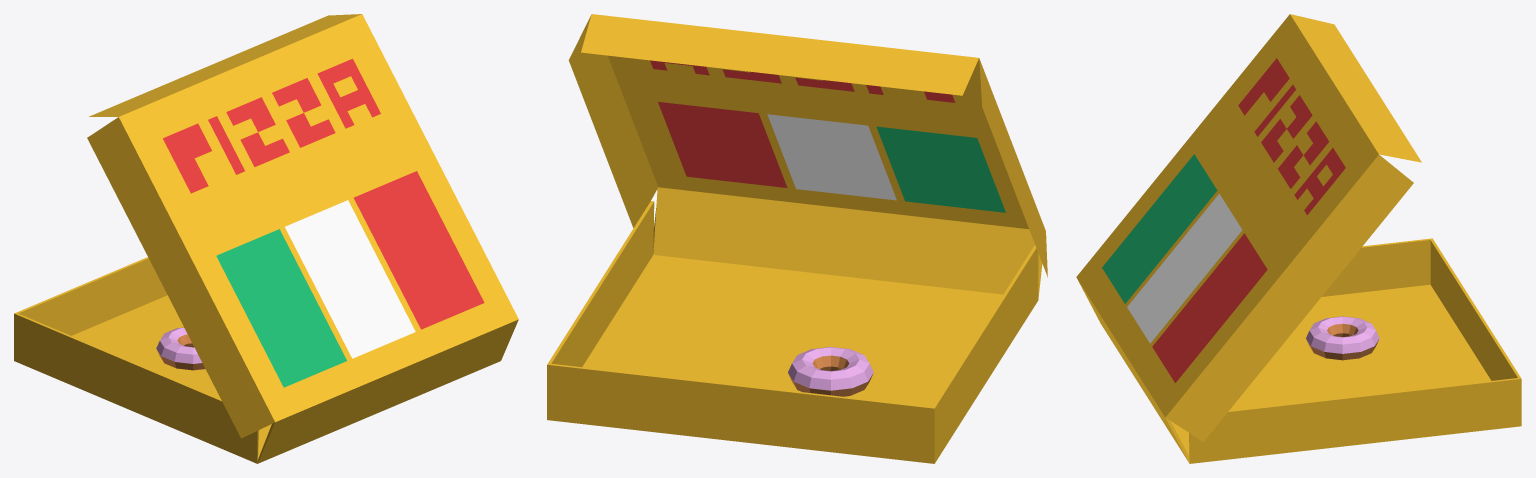
The model's file is Pizza.fbx.
3 views of the same model, side by side, from view 1: azimuth 30°, elevation 25°; view 2: azimuth 150°, elevation 25°; view 3: azimuth 270°, elevation 25° (orthographic). The views are drawn at different scales.
Parts seen in each view (by area): view 1: PizzaBox, Donut; view 2: PizzaBox, Donut; view 3: PizzaBox, Donut.
Part boxes in pixels (x1,y1,x2,y2): PizzaBox: [14, 14, 518, 463]; Donut: [156, 327, 205, 370]; PizzaBox: [547, 14, 1047, 463]; Donut: [788, 347, 873, 396]; PizzaBox: [1076, 14, 1521, 463]; Donut: [1306, 316, 1379, 360].
Size of the model in its own units: 28.71 by 21.24 by 29.77.
